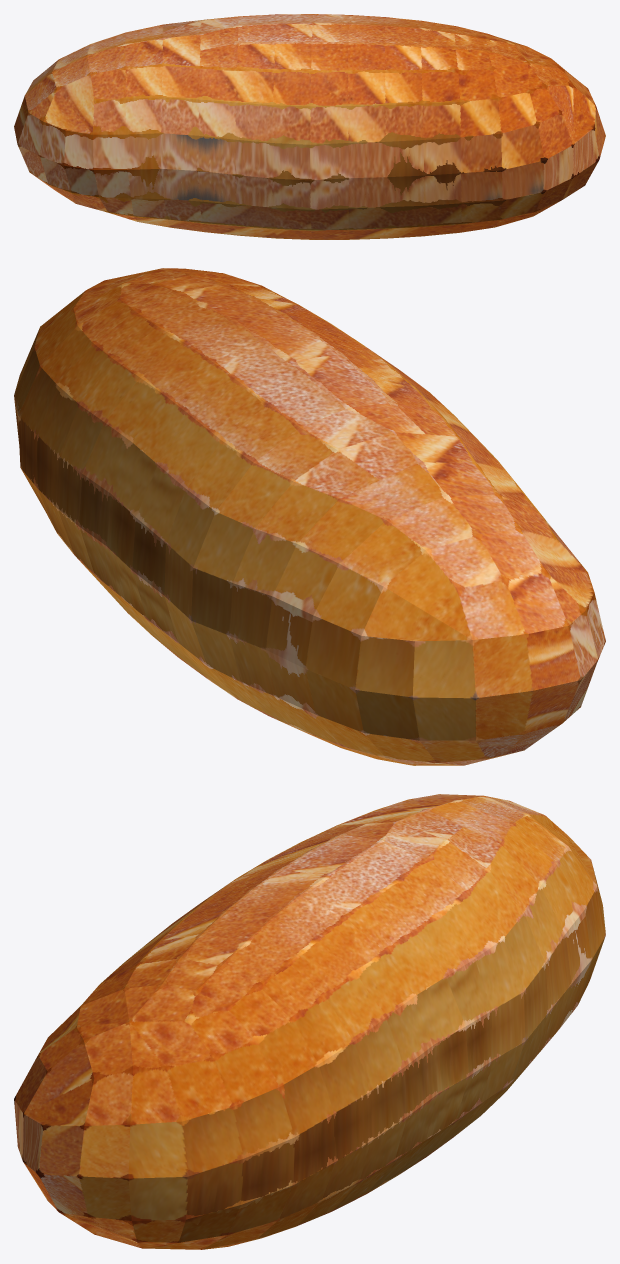
File: bread.fbx
3 views of the same model, one above another, from view 1: azimuth 30°, elevation 25°; view 2: azimuth 150°, elevation 25°; view 3: azimuth 270°, elevation 25° (orthographic). The views are drawn at different scales.
Visible parts, largest first — view 1: bread; view 2: bread; view 3: bread.
Boxes of the visible parts, x1,y1,x2,y2 form: bread: (14, 14, 605, 239); bread: (14, 268, 605, 765); bread: (14, 794, 605, 1249).
Size of the model in its own units: 585 by 247 by 444.
